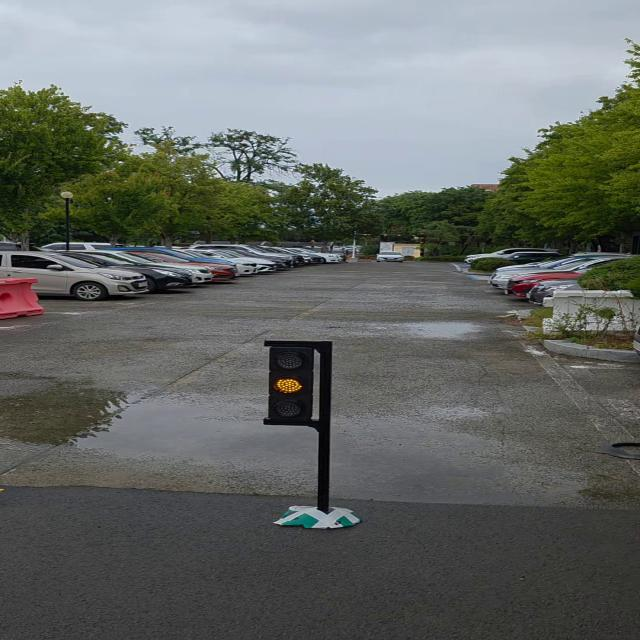yellow: (264, 340, 326, 425)
